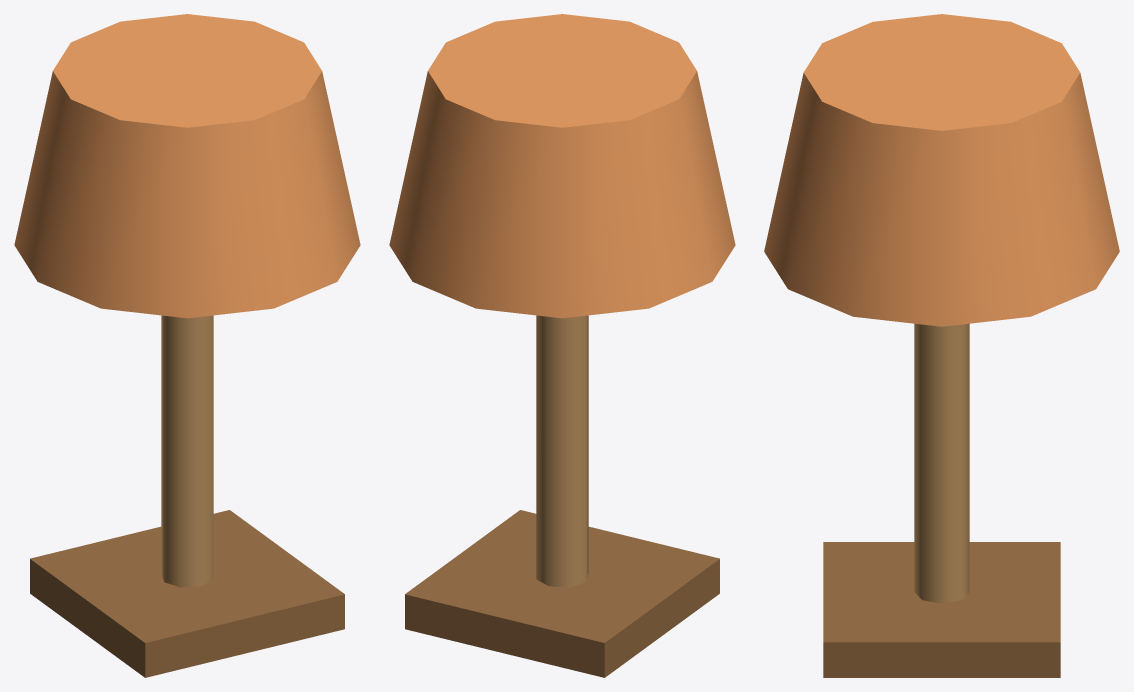
Rendered from reading_lamp.glb.
The picture shows the model from 3 angles, left to right: view 1: azimuth 30°, elevation 25°; view 2: azimuth 150°, elevation 25°; view 3: azimuth 270°, elevation 25°; orthographic projection. The views are drawn at different scales.
Visible parts, largest first — view 1: reading_lamp; view 2: reading_lamp; view 3: reading_lamp.
Boxes of the visible parts, bbox=[...] form: reading_lamp: bbox=[14, 14, 360, 677]; reading_lamp: bbox=[389, 14, 735, 677]; reading_lamp: bbox=[764, 14, 1119, 677].
Bounding box in the file's own units: 18 × 31 × 18.
